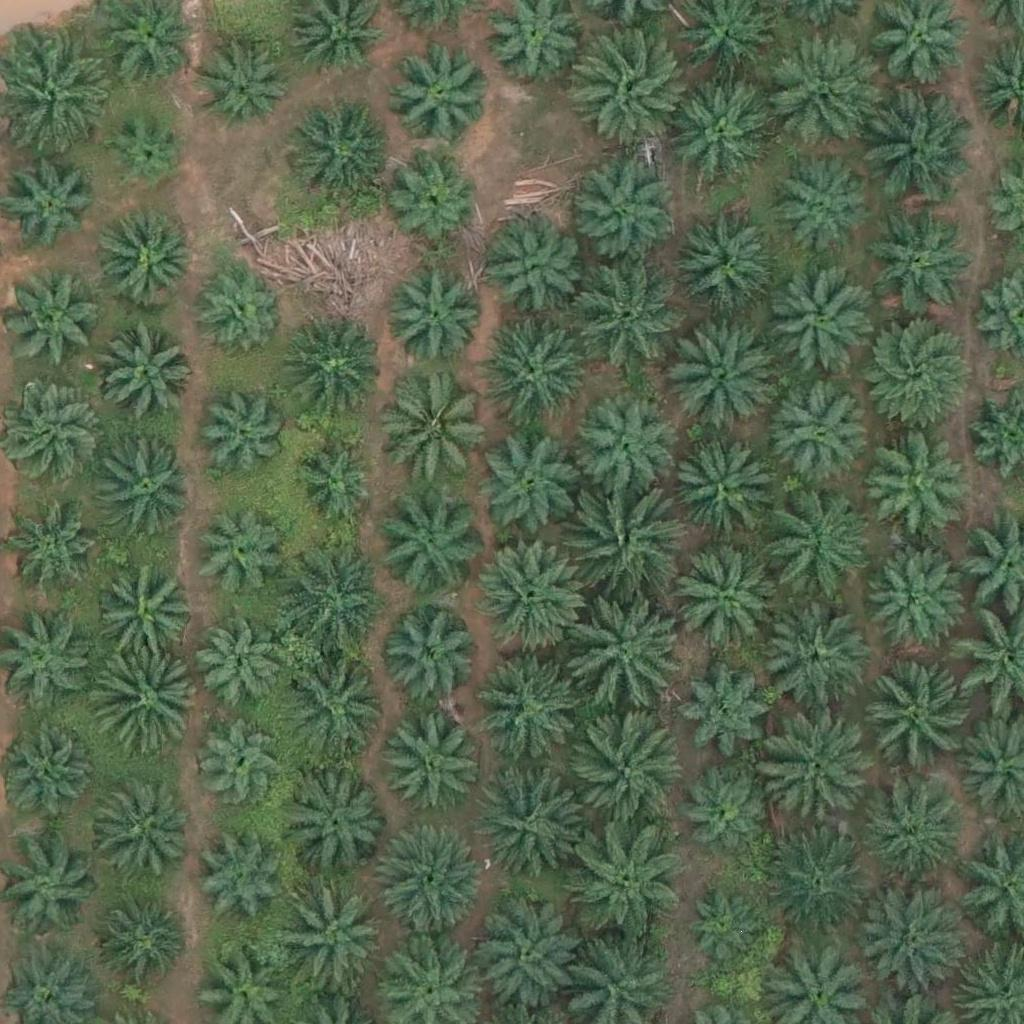Kelapa_Sawit: (757, 606, 870, 720), (475, 763, 588, 877), (763, 32, 876, 146), (860, 659, 973, 772), (565, 489, 678, 602), (574, 718, 687, 831), (468, 899, 581, 1012), (475, 653, 588, 766), (372, 490, 485, 603), (374, 825, 487, 938), (280, 887, 393, 1000), (278, 645, 391, 758), (279, 545, 392, 658), (855, 310, 968, 423), (762, 267, 875, 380), (473, 311, 586, 424), (569, 823, 681, 937), (89, 644, 201, 758), (860, 88, 972, 202), (851, 881, 963, 994), (764, 488, 876, 601), (765, 720, 877, 833), (764, 822, 876, 935), (670, 541, 782, 654), (571, 601, 683, 714), (474, 537, 586, 650), (668, 316, 780, 429), (572, 261, 684, 374), (566, 151, 678, 264), (573, 31, 685, 144), (382, 374, 494, 487), (866, 786, 966, 887), (872, 549, 972, 650), (677, 663, 777, 764), (377, 608, 477, 709), (385, 712, 485, 813), (288, 776, 388, 877), (100, 568, 200, 669), (861, 431, 961, 532), (770, 380, 870, 481), (769, 151, 869, 252), (668, 81, 768, 182), (672, 214, 772, 315), (667, 442, 767, 543), (576, 397, 676, 498), (483, 218, 583, 319), (476, 432, 576, 533), (388, 266, 488, 367), (391, 41, 491, 142), (287, 101, 387, 202), (88, 779, 188, 879), (866, 213, 966, 313), (282, 320, 382, 420), (96, 209, 196, 309), (96, 322, 196, 422), (95, 437, 195, 537), (4, 267, 104, 367), (191, 512, 279, 600), (195, 624, 283, 712), (93, 895, 181, 983), (14, 513, 102, 601), (291, 433, 379, 521), (201, 43, 289, 131), (689, 767, 776, 855), (197, 721, 284, 809), (198, 840, 285, 928), (391, 153, 478, 241), (198, 387, 285, 475), (195, 264, 282, 352), (5, 164, 92, 252), (109, 113, 184, 189), (687, 890, 762, 966)
